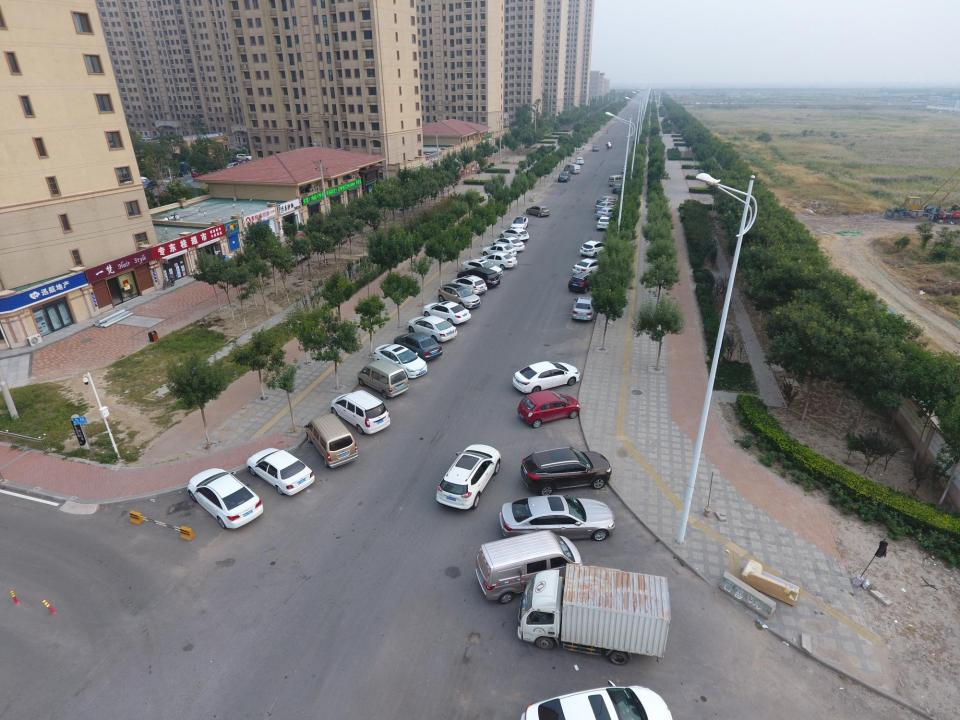car: (500, 495, 615, 541), (187, 468, 263, 529), (246, 448, 314, 495), (518, 390, 580, 428), (512, 362, 580, 395), (374, 344, 427, 378), (407, 315, 457, 343), (394, 332, 442, 360), (422, 301, 471, 325), (462, 259, 502, 279), (480, 252, 517, 270), (573, 258, 606, 277), (492, 236, 524, 253), (481, 243, 516, 258), (595, 207, 619, 220), (595, 201, 619, 214), (510, 216, 528, 232), (597, 196, 620, 207), (139, 180, 158, 190), (130, 174, 148, 184), (163, 176, 181, 185), (166, 170, 184, 178), (192, 170, 210, 178), (612, 183, 623, 194), (622, 166, 630, 173), (592, 145, 599, 152)
truck: (517, 563, 671, 665)
van: (475, 530, 582, 604), (519, 680, 672, 720), (521, 447, 612, 497), (436, 444, 500, 509), (304, 413, 358, 468), (331, 390, 390, 434), (358, 359, 409, 399), (438, 284, 480, 310), (457, 266, 500, 289), (451, 275, 487, 296), (568, 272, 601, 294), (572, 297, 595, 321), (580, 240, 610, 258), (500, 227, 529, 242), (526, 205, 550, 217), (608, 174, 626, 187), (596, 216, 612, 230), (564, 164, 580, 174), (224, 162, 240, 171), (558, 171, 570, 182), (236, 154, 253, 160), (575, 158, 584, 165)
